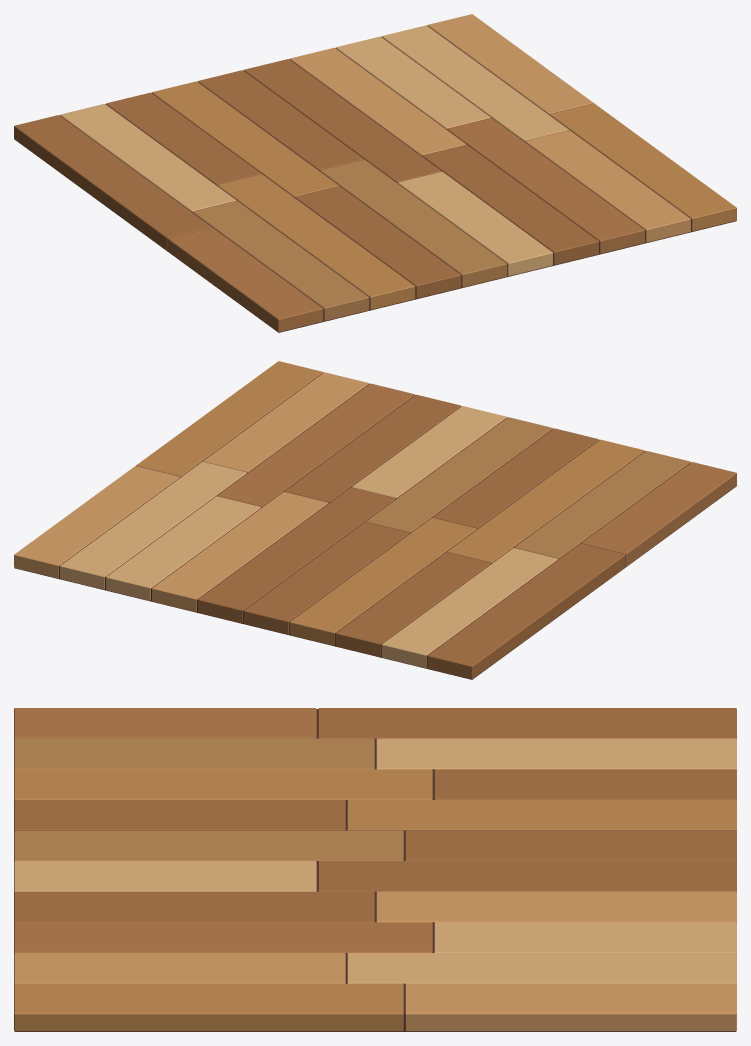
The model's file is floor_dance.glb.
3 views of the same model, one above another, from view 1: azimuth 30°, elevation 25°; view 2: azimuth 150°, elevation 25°; view 3: azimuth 270°, elevation 25° (orthographic). The views are drawn at different scales.
Visible parts, largest first — view 1: Tábua de pista.001, Tábua de pista.004, Tábua de pista.014, Tábua de pista.008, Tábua de pista.018, Tábua de pista, Tábua de pista.011, Tábua de pista.002, Tábua de pista.012, Tábua de pista.017, Tábua de pista.007, Tábua de pista.006 (+9 smaller); view 2: Tábua de pista.001, Tábua de pista.011, Tábua de pista.007, Tábua de pista.017, Tábua de pista.004, Tábua de pista.014, Tábua de pista.003, Tábua de pista.013, Tábua de pista.008, Tábua de pista.018, Tábua de pista, Tábua de pista.009 (+9 smaller); view 3: Tábua de pista.018, Tábua de pista.019, Tábua de pista.001, Tábua de pista.004, Tábua de pista.011, Tábua de pista.014, Tábua de pista.007, Tábua de pista.017, Tábua de pista.008, Tábua de pista.002, Tábua de pista.003, Tábua de pista.012 (+9 smaller).
Boxes of the visible parts, bbox=[...] form: Tábua de pista.001: bbox=[14, 115, 211, 250]; Tábua de pista.004: bbox=[217, 174, 415, 309]; Tábua de pista.014: bbox=[447, 118, 644, 253]; Tábua de pista.008: bbox=[320, 159, 507, 287]; Tábua de pista.018: bbox=[550, 103, 736, 231]; Tábua de pista: bbox=[168, 227, 323, 332]; Tábua de pista.011: bbox=[244, 59, 441, 182]; Tábua de pista.002: bbox=[193, 201, 369, 320]; Tábua de pista.012: bbox=[422, 145, 598, 264]; Tábua de pista.017: bbox=[381, 25, 568, 140]; Tábua de pista.007: bbox=[152, 81, 338, 196]; Tábua de pista.006: bbox=[295, 186, 461, 298]; Tábua de pista.001: bbox=[427, 543, 625, 679]; Tábua de pista.011: bbox=[198, 487, 395, 623]; Tábua de pista.007: bbox=[289, 517, 476, 645]; Tábua de pista.017: bbox=[60, 461, 246, 589]; Tábua de pista.004: bbox=[447, 439, 644, 562]; Tábua de pista.014: bbox=[217, 383, 414, 506]; Tábua de pista.003: bbox=[381, 548, 557, 667]; Tábua de pista.013: bbox=[152, 492, 328, 611]; Tábua de pista.008: bbox=[366, 417, 552, 532]; Tábua de pista.018: bbox=[136, 361, 323, 476]; Tábua de pista: bbox=[581, 462, 736, 566]; Tábua de pista.009: bbox=[243, 522, 409, 634]; Tábua de pista.018: bbox=[14, 983, 403, 1031]; Tábua de pista.019: bbox=[405, 983, 736, 1031]; Tábua de pista.001: bbox=[318, 708, 736, 738]; Tábua de pista.004: bbox=[14, 769, 432, 800]; Tábua de pista.011: bbox=[318, 861, 736, 891]; Tábua de pista.014: bbox=[14, 922, 432, 953]; Tábua de pista.007: bbox=[347, 800, 736, 830]; Tábua de pista.017: bbox=[347, 953, 736, 983]; Tábua de pista.008: bbox=[14, 830, 403, 861]; Tábua de pista.002: bbox=[14, 738, 374, 769]; Tábua de pista.003: bbox=[376, 738, 736, 769]; Tábua de pista.012: bbox=[14, 891, 374, 922].
Size of the model in its own units: 2.5 by 0.072 by 2.5.
